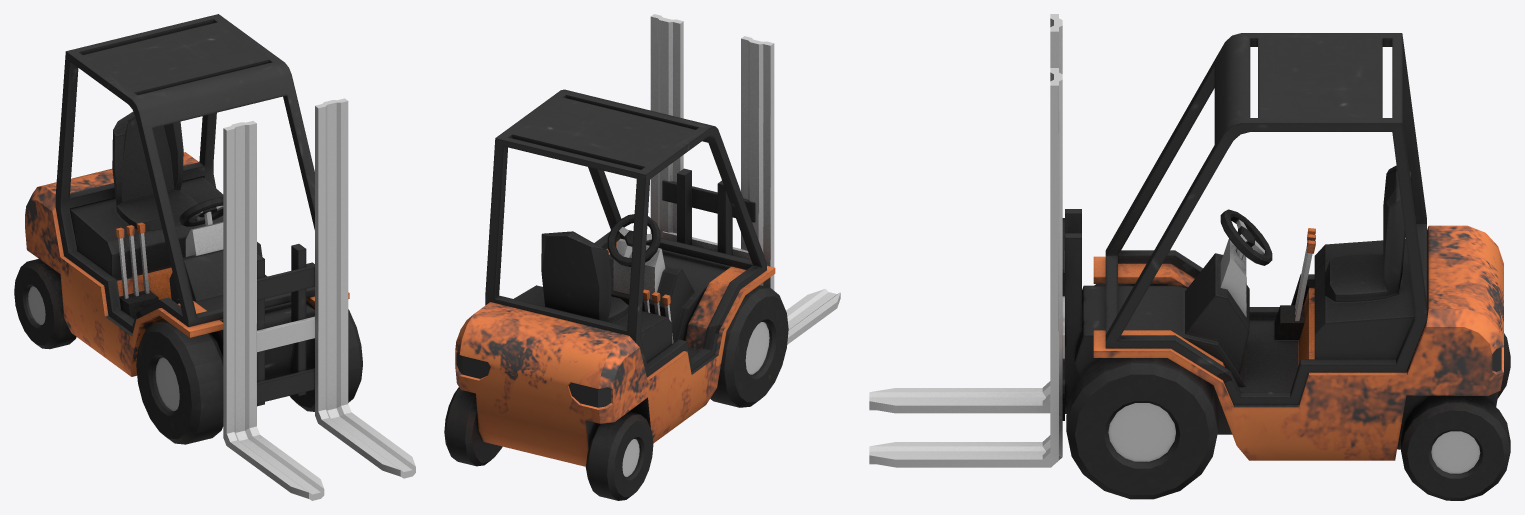
Rendered from forklift.fbx.
3 renders of one model, left to right at view 1: azimuth 30°, elevation 25°; view 2: azimuth 150°, elevation 25°; view 3: azimuth 270°, elevation 25°, orthographic. The views are drawn at different scales.
Visible parts, largest first — view 1: Cube.032; view 2: Cube.032; view 3: Cube.032.
Part boxes in pixels (box(x1,y1,x2,y2)): Cube.032: box(14, 14, 415, 500); Cube.032: box(444, 14, 840, 500); Cube.032: box(869, 14, 1510, 500).
Bounding box in the file's own units: 1396 × 2586 × 3730.
